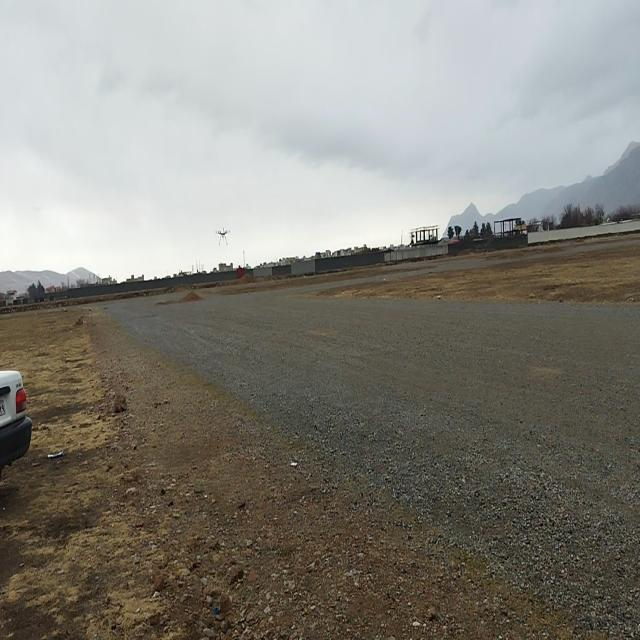drone: (214, 226, 230, 246)
